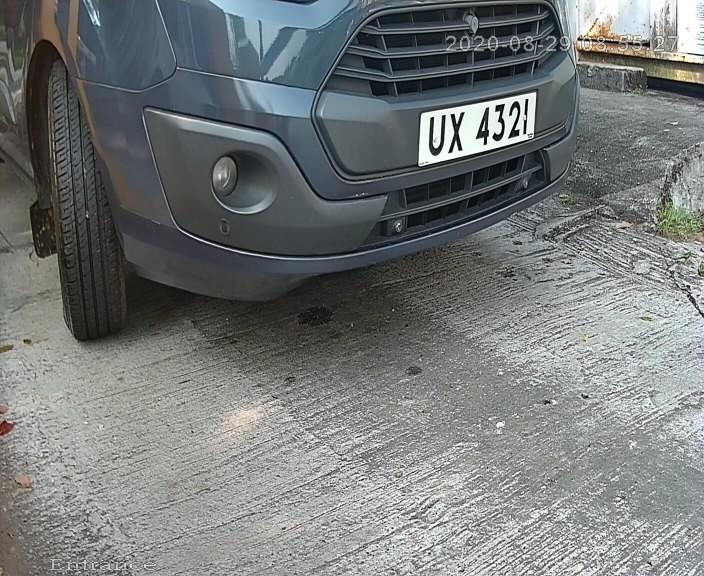License Plate: (409, 83, 541, 178)
